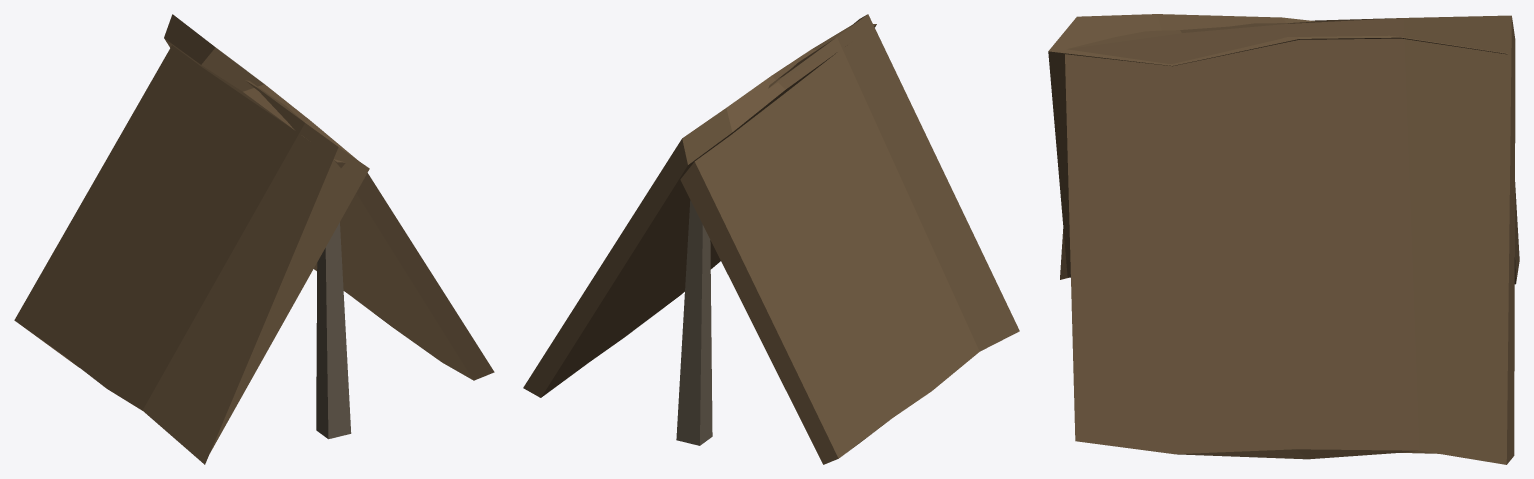
The model's file is tent.fbx.
3 renders of one model, left to right at view 1: azimuth 30°, elevation 25°; view 2: azimuth 150°, elevation 25°; view 3: azimuth 270°, elevation 25°, orthographic. The views are drawn at different scales.
Visible parts, largest first — view 1: Cube.001, Cube.003; view 2: Cube.001, Cube.002; view 3: Cube.001.
Part boxes in pixels (x1,y1,x2,y2): Cube.001: [14, 14, 494, 464]; Cube.003: [316, 222, 351, 439]; Cube.001: [523, 14, 1019, 464]; Cube.002: [676, 200, 712, 445]; Cube.001: [1048, 14, 1519, 464].
Bounding box in the file's own units: 322 × 291 × 332.
